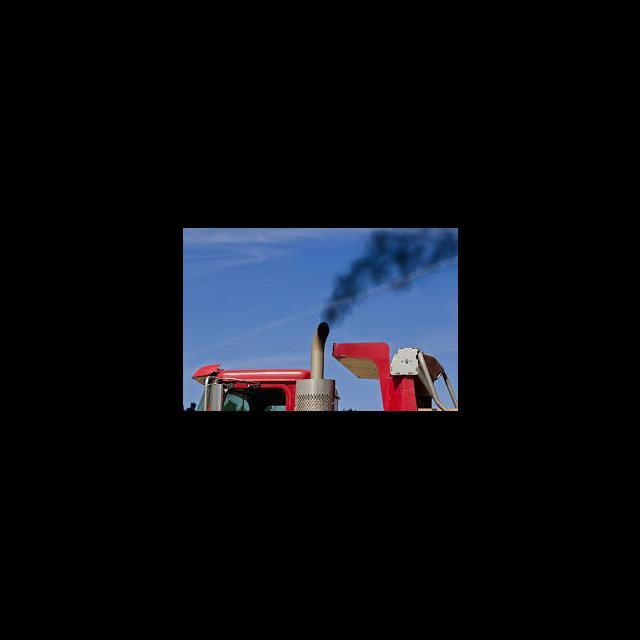Smoke: (320, 228, 458, 326)
